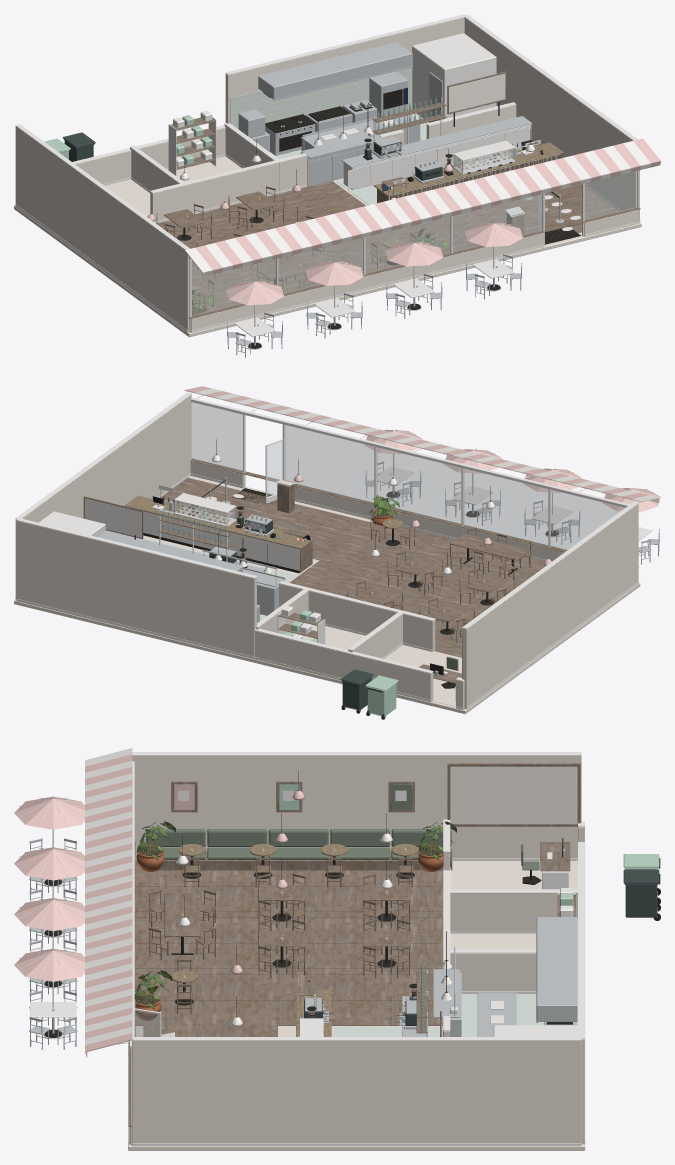
File: cafe-venue.glb
The picture shows the model from 3 angles, top to bottom: view 1: azimuth 30°, elevation 25°; view 2: azimuth 150°, elevation 25°; view 3: azimuth 270°, elevation 25°; orthographic projection. The views are drawn at different scales.
Parts seen in each view (by area): view 1: KITCHEN_LINE, WALL_LEFT, AWNING, GLAZING_MAIN, WALL_RIGHT, FLOOR_DINING, BACK_BENCH, WALL_FRONT_SILL_A, FLOOR_FRONT_OF_COUNTER, PARTITION_OFFICE_B, WALL_BACK_KITCHEN, KITCHEN_SPLASHBACK (+35 smaller); view 2: WALL_BACK_KITCHEN, GLAZING_MAIN, WALL_LEFT, FLOOR_DINING, WALL_RIGHT, WALL_BACK_YARD_B, COUNTER_BODY, FLOOR_FRONT_OF_COUNTER, SHOPFRONT_FRAME, AWNING, PARTITION_OFFICE_B, slab (+30 smaller); view 3: WALL_RIGHT, FLOOR_DINING, WALL_LEFT, AWNING, BANQUETTE, ROSTER_BOARD_FACE, KITCHEN_LINE, PARTITION_OFFICE_STORE, FLOOR_OFFICE, PARTITION_KITCHEN_OFFICE, slab, OFFICE_FURNITURE (+33 smaller).
Part boxes in pixels (x1,y1,x2,y2): KITCHEN_LINE: [238, 33, 496, 155]; WALL_LEFT: [15, 124, 191, 332]; AWNING: [185, 138, 660, 276]; GLAZING_MAIN: [191, 194, 542, 316]; WALL_RIGHT: [464, 14, 640, 222]; FLOOR_DINING: [157, 181, 413, 332]; BACK_BENCH: [341, 116, 532, 190]; WALL_FRONT_SILL_A: [190, 232, 544, 332]; FLOOR_FRONT_OF_COUNTER: [399, 184, 618, 253]; PARTITION_OFFICE_B: [150, 160, 279, 223]; WALL_BACK_KITCHEN: [225, 14, 466, 123]; KITCHEN_SPLASHBACK: [230, 67, 412, 128]; WALL_BACK_KITCHEN: [16, 518, 257, 658]; GLAZING_MAIN: [285, 425, 624, 550]; WALL_LEFT: [462, 501, 638, 709]; FLOOR_DINING: [289, 522, 545, 657]; WALL_RIGHT: [15, 392, 191, 599]; WALL_BACK_YARD_B: [254, 628, 433, 701]; COUNTER_BODY: [124, 495, 313, 573]; FLOOR_FRONT_OF_COUNTER: [160, 477, 373, 560]; SHOPFRONT_FRAME: [190, 397, 638, 567]; AWNING: [184, 386, 659, 502]; PARTITION_OFFICE_B: [308, 587, 435, 651]; slab: [14, 476, 640, 714]; WALL_RIGHT: [132, 1037, 581, 1146]; FLOOR_DINING: [135, 861, 442, 1025]; WALL_LEFT: [132, 752, 581, 860]; AWNING: [85, 748, 132, 1057]; BANQUETTE: [146, 829, 452, 870]; ROSTER_BOARD_FACE: [450, 766, 577, 824]; KITCHEN_LINE: [477, 917, 577, 1036]; PARTITION_OFFICE_STORE: [447, 889, 577, 933]; FLOOR_OFFICE: [450, 861, 577, 949]; PARTITION_KITCHEN_OFFICE: [447, 949, 536, 993]; slab: [128, 1026, 585, 1150]; OFFICE_FURNITURE: [521, 838, 575, 916].
Size of the model in its own units: 18.4 by 3.34 by 17.27.
28 materials, 8 textured.
